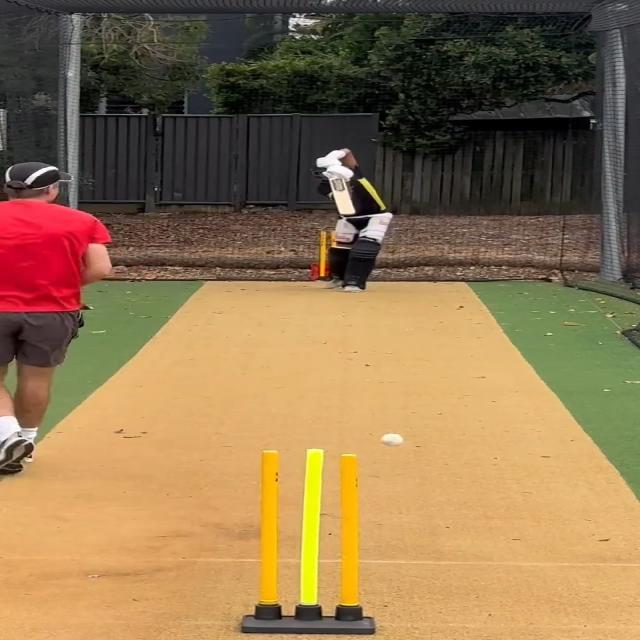ball: (378, 431, 407, 449)
stump: (235, 447, 378, 635)
